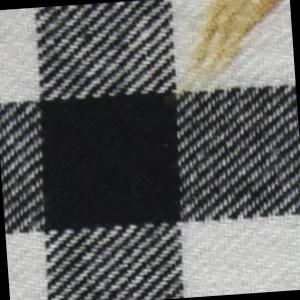Oil Stain: (168, 1, 297, 103)
